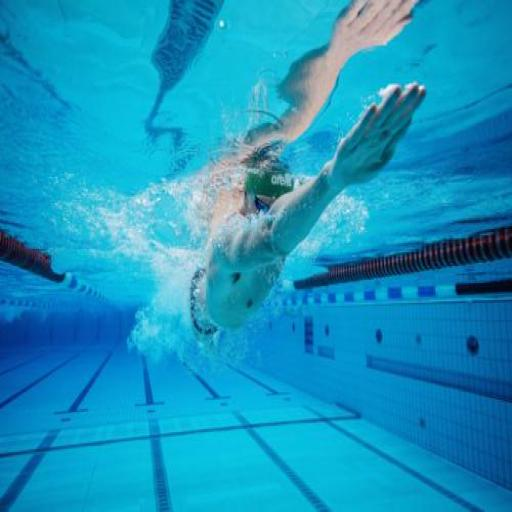swimming: (182, 0, 428, 341)
